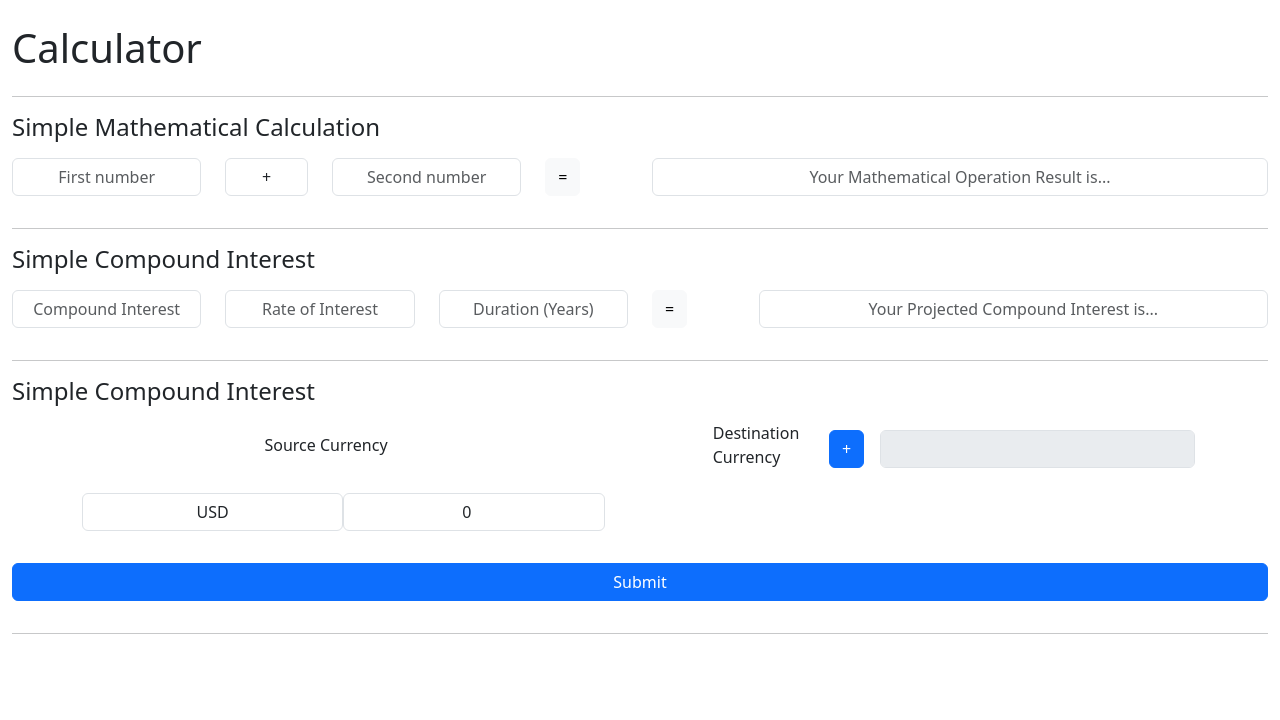
Test: calculate compound interest
Type "2000" into the field with placeholder "Compound Interest" at point(107, 309), box [12, 290, 201, 328]
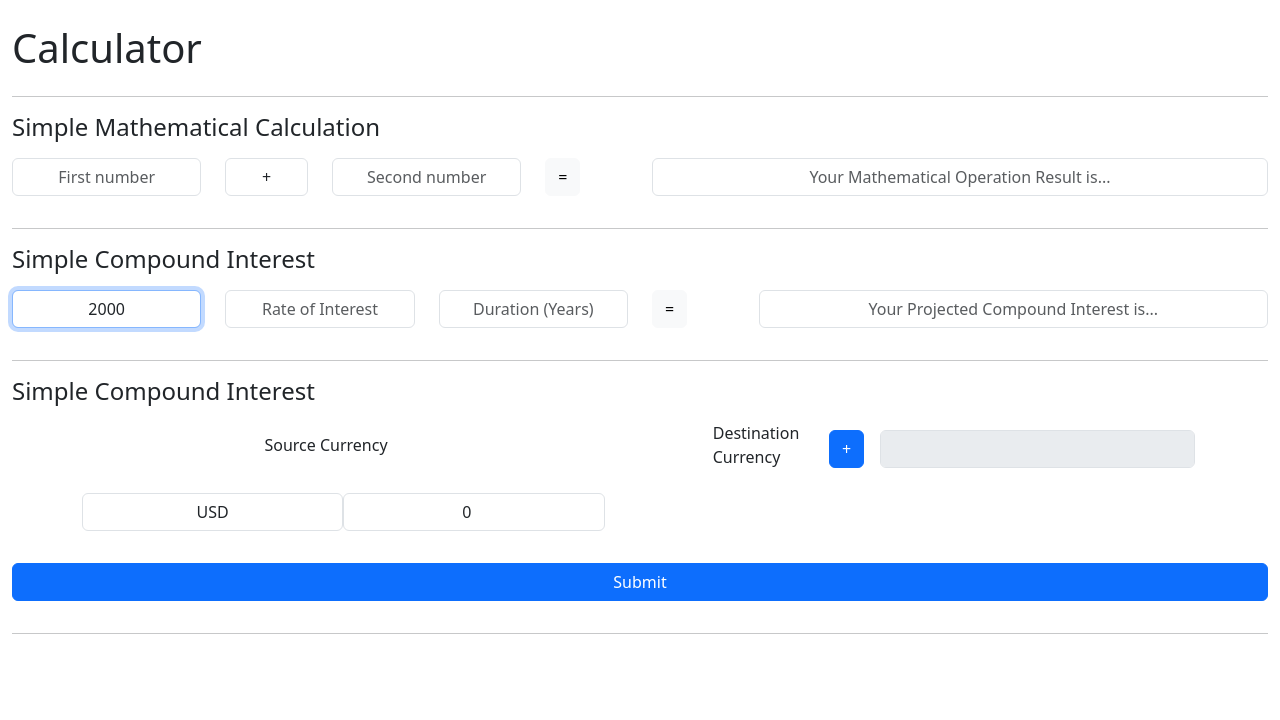
Type "5" into the field with placeholder "Rate of Interest" at point(320, 309), box [225, 290, 415, 328]
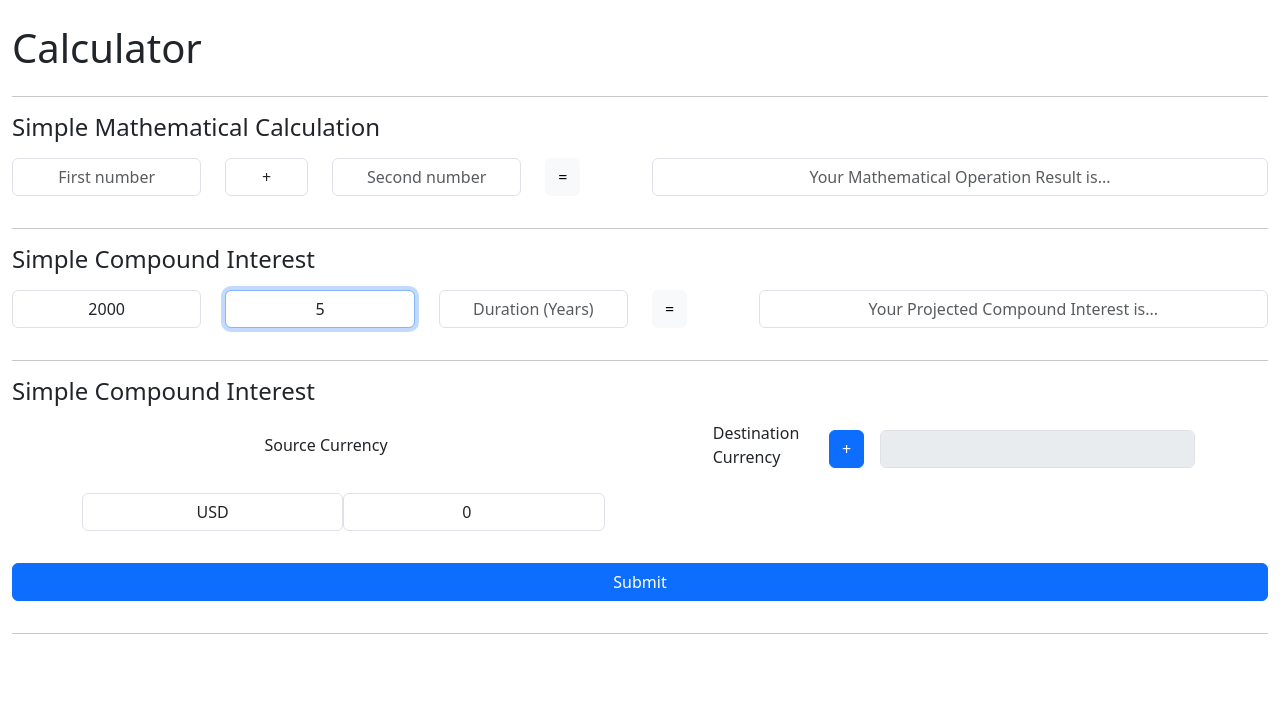
Type "2" into the field with placeholder "Duration (Years)" at point(533, 309), box [439, 290, 628, 328]
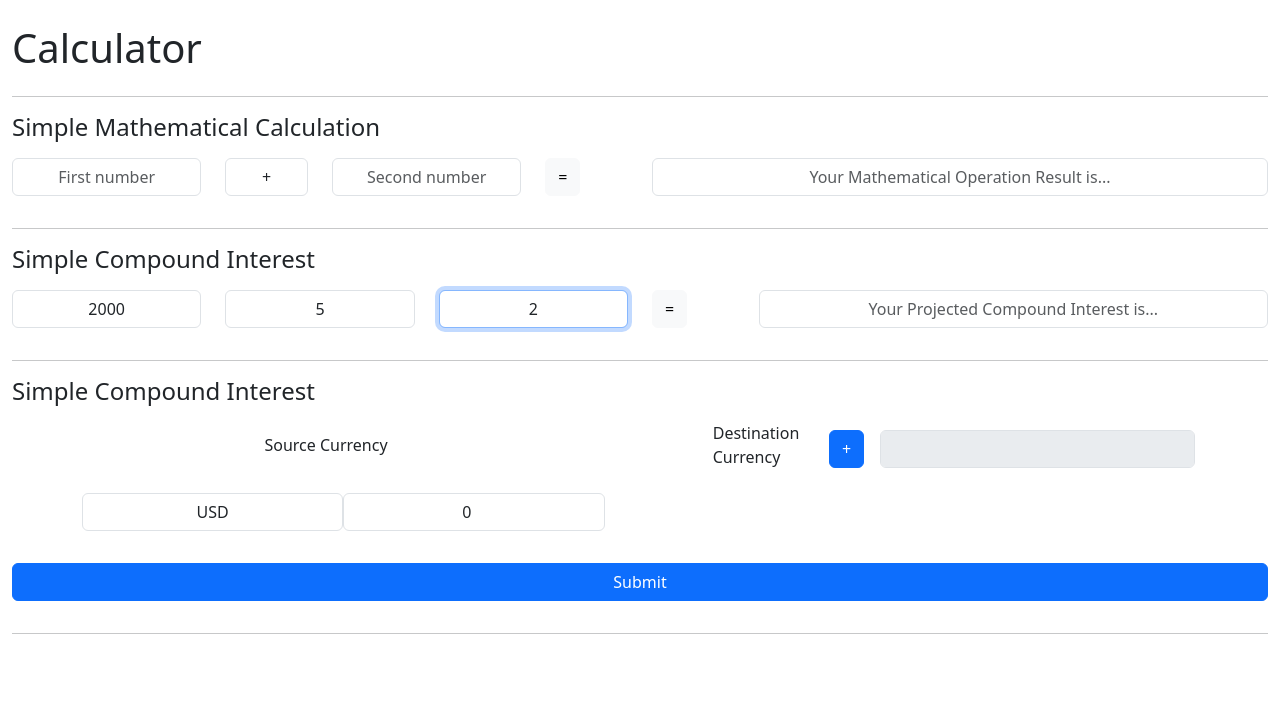
Click the button with test id "compound-interest-button" at point(670, 309), box [652, 290, 687, 328]
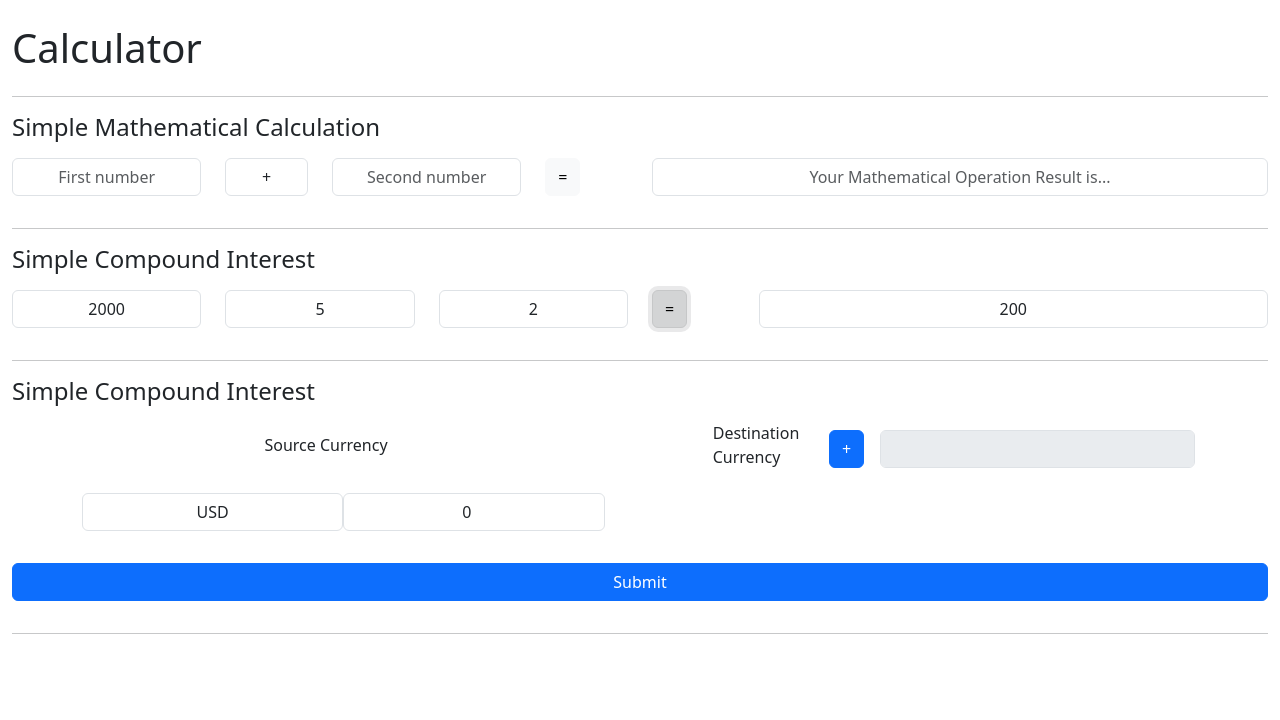
Now the 4th field with placeholder "Your Projected Compound Interest is..." holds "200", box [759, 290, 1268, 328]
